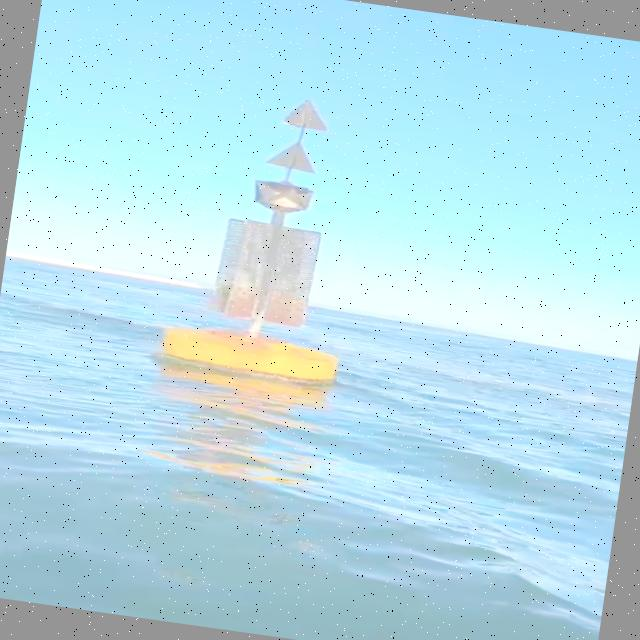marque: (162, 86, 384, 394)
